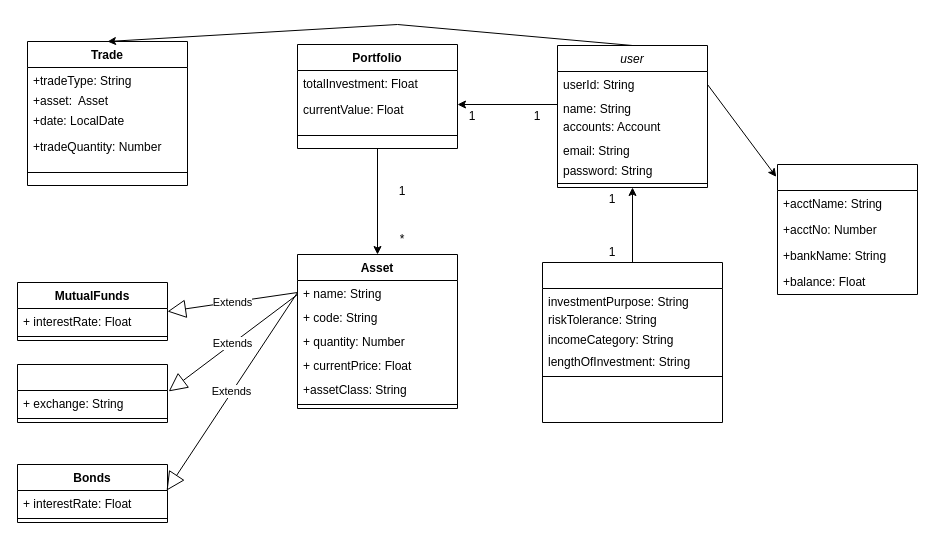
The diagram is 935 pixels wide and 540 high, and some of its shapes have lost their labels. The shapes that lost their labels are listed below. From the top down, each one's box as (x1, y1, x2, y2) in pixels, then its label:
(776, 164, 918, 294): Account
(542, 262, 722, 422): Preference
(16, 364, 168, 422): Stocks
